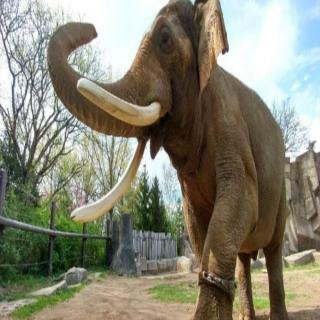Elephant: (41, 0, 296, 320)
